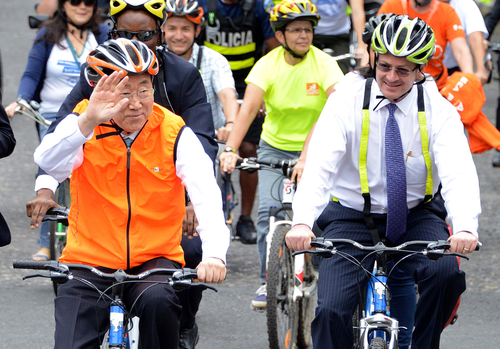bikerider: (270, 13, 491, 349), (25, 32, 232, 349), (239, 2, 354, 331)
